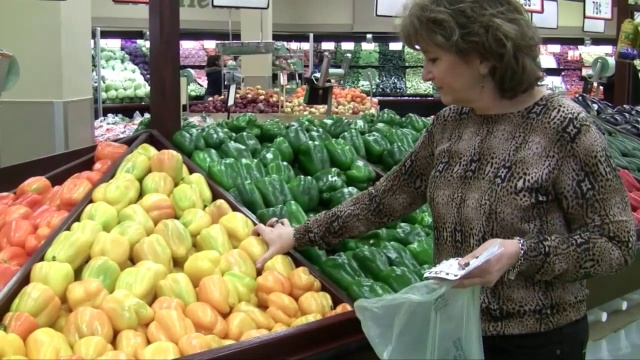person: (365, 0, 624, 360)
